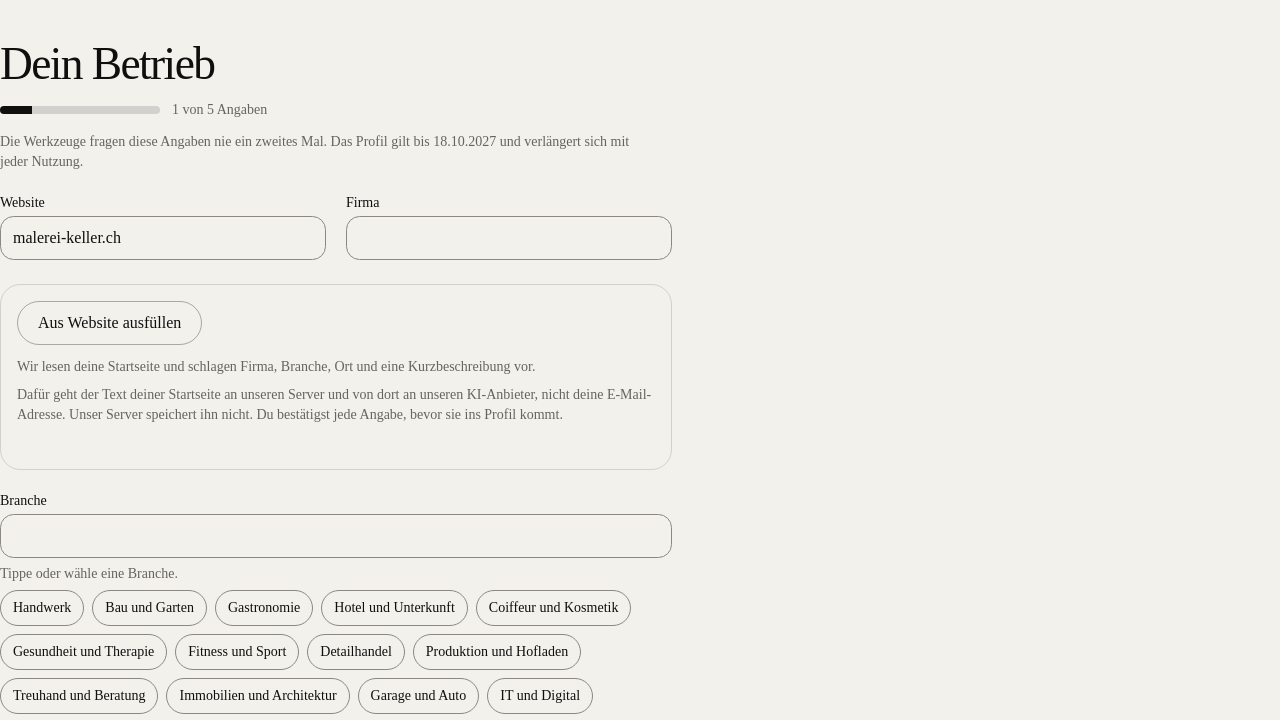
it: Aus Website ausfüllen › fragt vor dem Lesen nach der E-Mail-Adresse, wenn der Browser keine kennt
Click the button "Aus Website ausfüllen". click: x=110, y=323
box: [17,301,202,345]
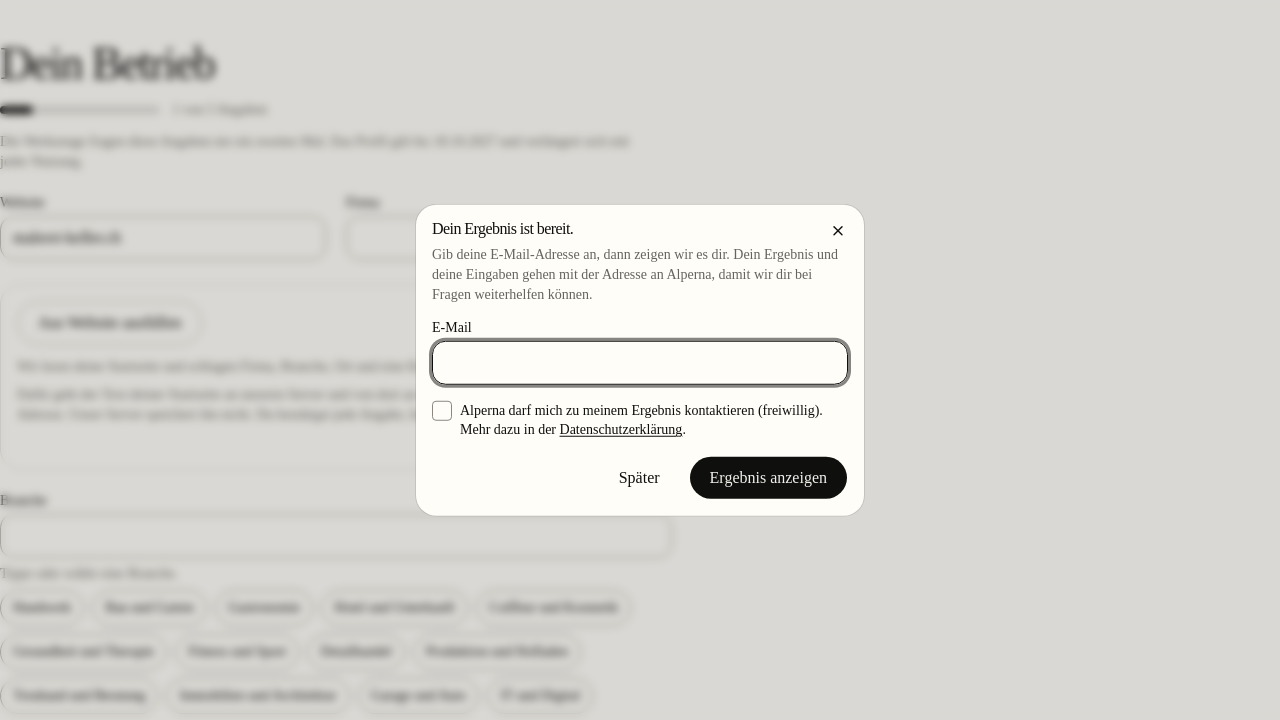
Check: the dialog is shown, box [416,205,864,515]
